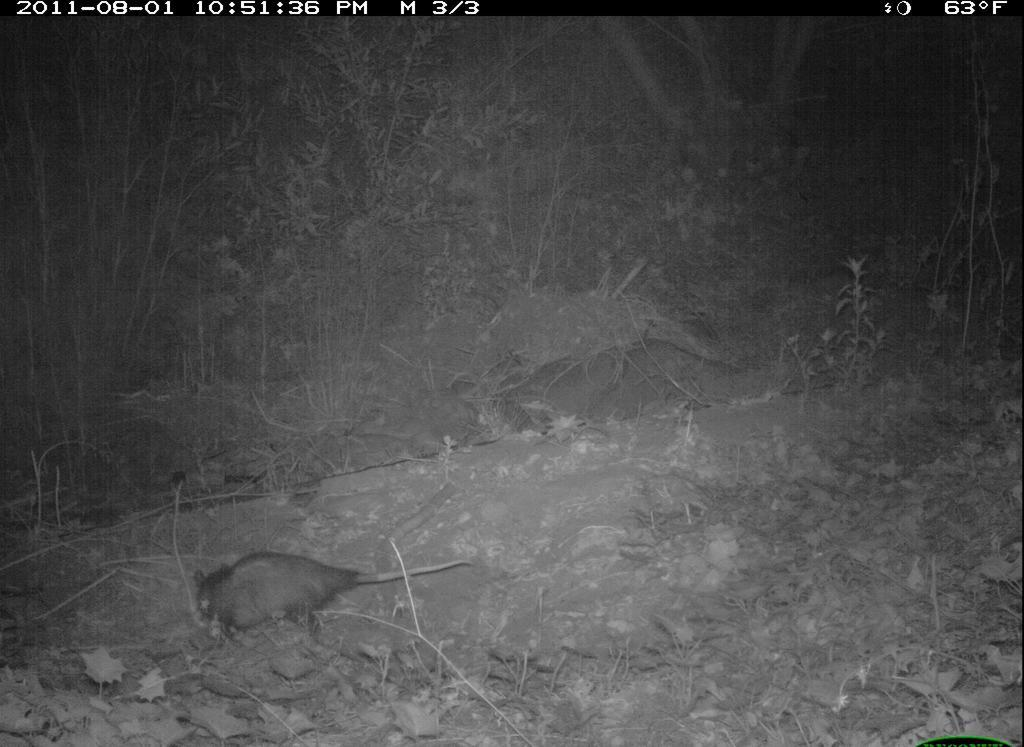opossum: (166, 545, 473, 652)
